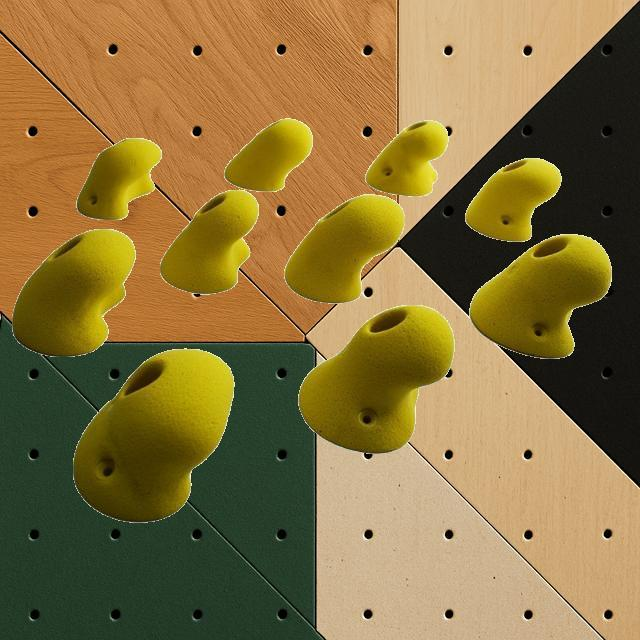Jug: (72, 348, 234, 522), (298, 303, 454, 453), (468, 234, 612, 358), (11, 228, 135, 356), (284, 194, 404, 302), (160, 190, 258, 294), (465, 157, 561, 241), (75, 136, 161, 220), (224, 118, 312, 192), (364, 120, 448, 197)
